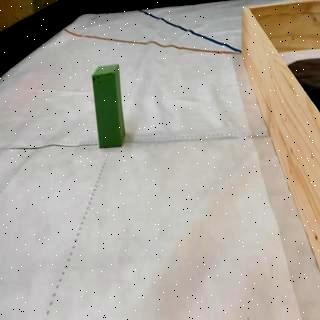greenbox: (94, 68, 124, 148)
